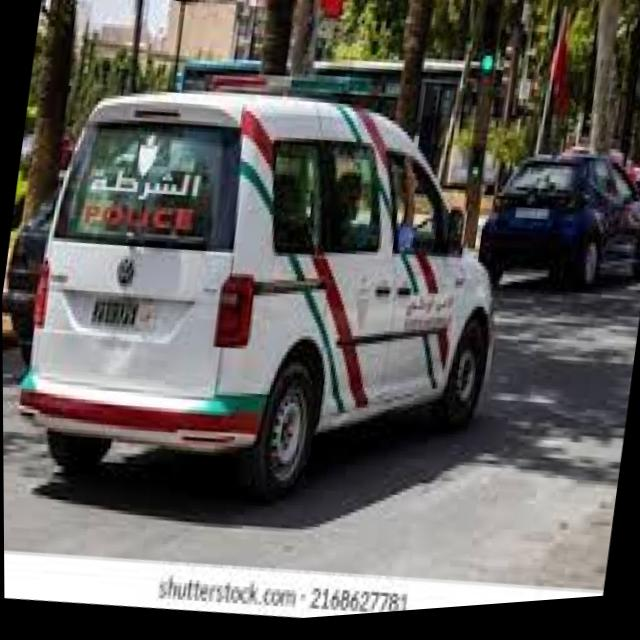Police car: (0, 22, 532, 557)
